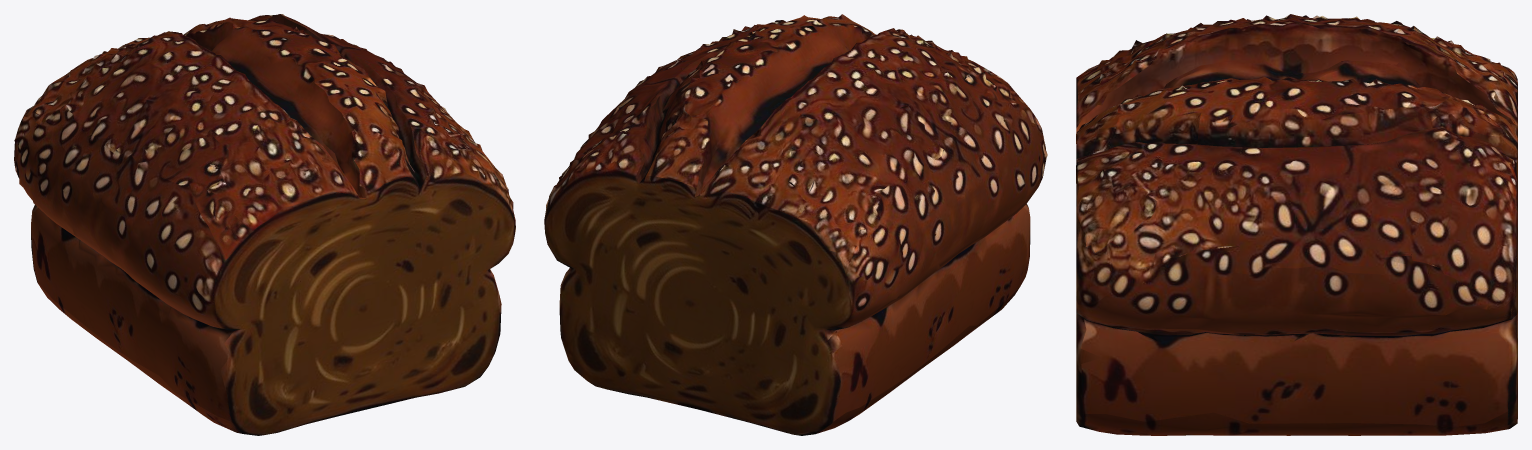
The model's file is seed_loaf.glb.
3 renders of one model, left to right at view 1: azimuth 30°, elevation 25°; view 2: azimuth 150°, elevation 25°; view 3: azimuth 270°, elevation 25°, orthographic. The views are drawn at different scales.
Parts seen in each view (by area): view 1: seed_loaf; view 2: seed_loaf; view 3: seed_loaf.
Part boxes in pixels (<box>): seed_loaf: <box>14,14,515,435</box>; seed_loaf: <box>544,14,1047,435</box>; seed_loaf: <box>1076,14,1517,435</box>.
Size of the model in its own units: 0.9941 by 0.8236 by 1.
1 material, 1 textured.
